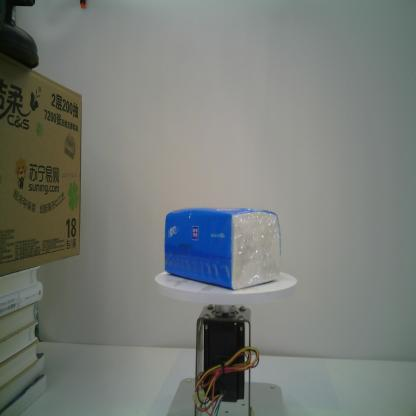Tissue: (164, 206, 282, 290)
